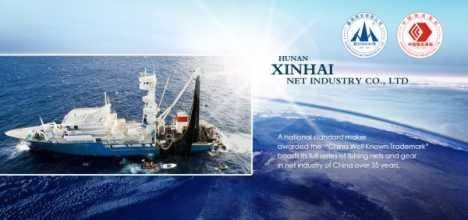otherboat: (4, 64, 227, 153)
